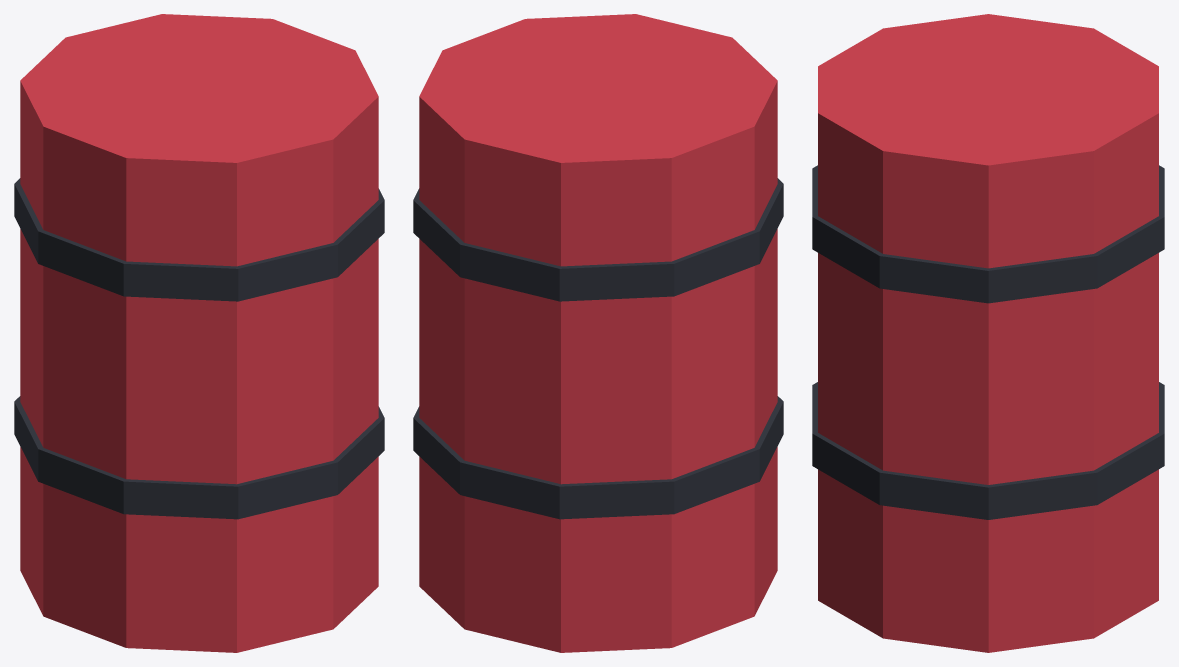
The model's file is barrel_red.glb.
The picture shows the model from 3 angles, left to right: view 1: azimuth 30°, elevation 25°; view 2: azimuth 150°, elevation 25°; view 3: azimuth 270°, elevation 25°; orthographic projection.
Visible parts, largest first — view 1: model; view 2: model; view 3: model.
Part boxes in pixels (x1,y1,x2,y2): model: (14,14,384,652); model: (413,14,783,652); model: (812,14,1164,652).
Bounding box in the file's own units: 0.62 × 0.9 × 0.5897.
